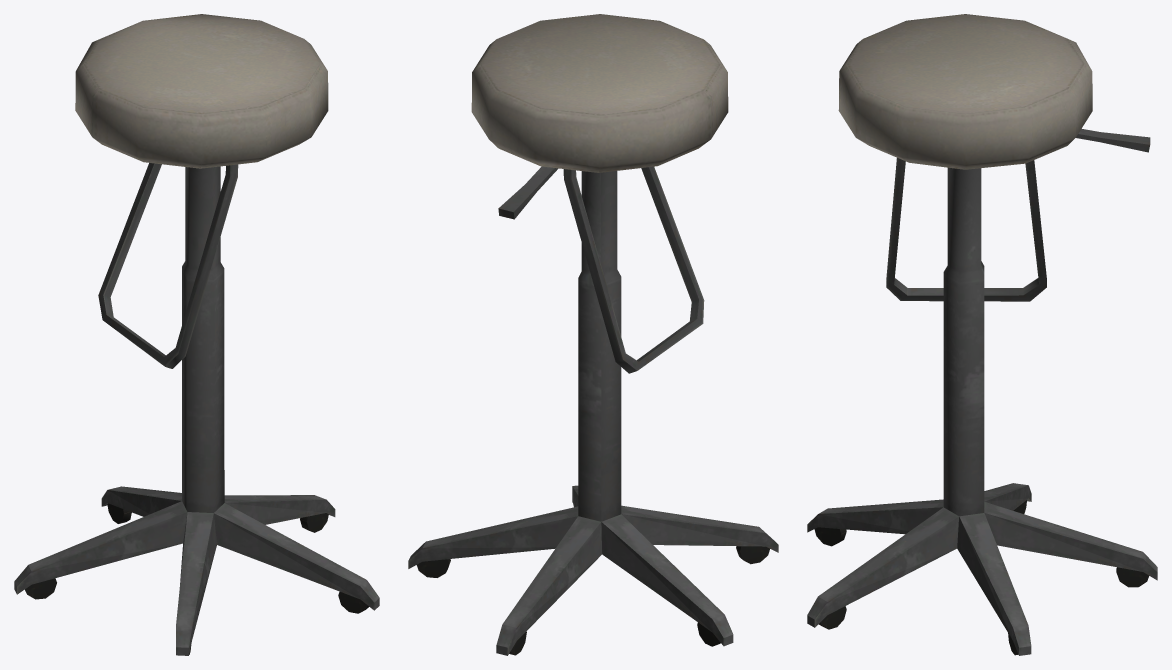
Rendered from stool.glb.
The picture shows the model from 3 angles, left to right: view 1: azimuth 30°, elevation 25°; view 2: azimuth 150°, elevation 25°; view 3: azimuth 270°, elevation 25°; orthographic projection.
Visible parts, largest first — view 1: Body_bts_stool_reference.smd; view 2: Body_bts_stool_reference.smd; view 3: Body_bts_stool_reference.smd.
Boxes of the visible parts, box(x1,y1,x2,y2) form: Body_bts_stool_reference.smd: box(14, 14, 379, 655); Body_bts_stool_reference.smd: box(408, 14, 778, 655); Body_bts_stool_reference.smd: box(807, 14, 1157, 655).
Bounding box in the file's own units: 0.4121 × 0.6426 × 0.392.
1 material, 1 textured.
